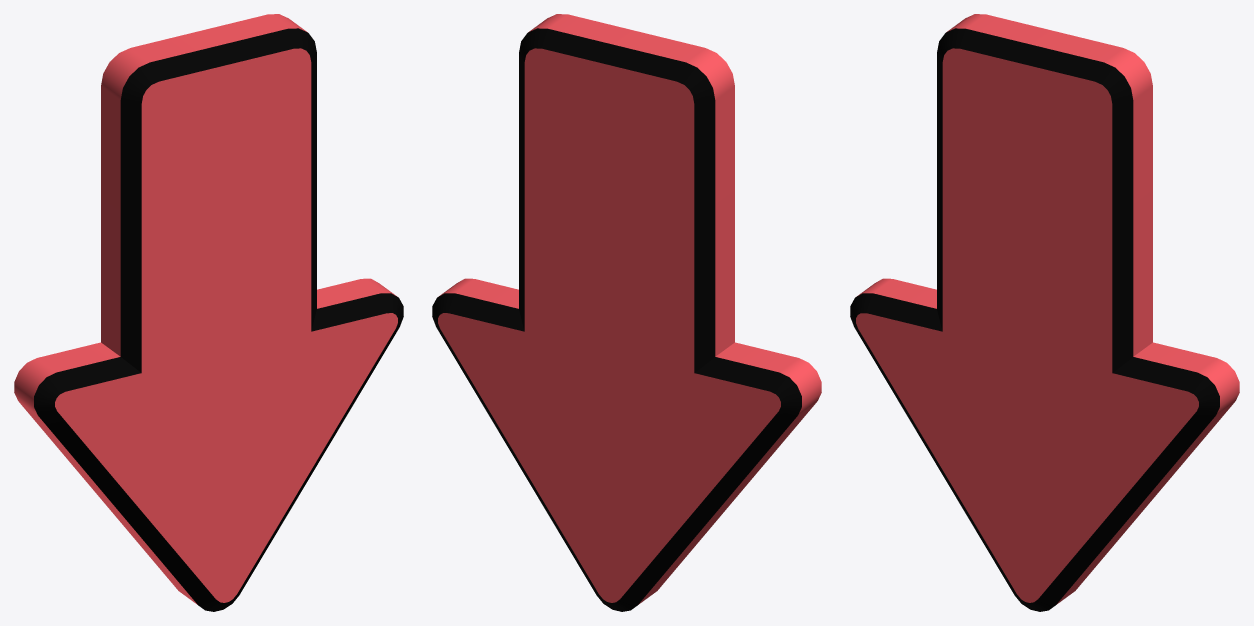
The model's file is Arrow.fbx.
3 views of the same model, side by side, from view 1: azimuth 30°, elevation 25°; view 2: azimuth 150°, elevation 25°; view 3: azimuth 330°, elevation 25° (orthographic).
Parts seen in each view (by area): view 1: Arrow; view 2: Arrow; view 3: Arrow.
Part boxes in pixels (x1=…): Arrow: x1=14, y1=14, x2=403, y2=611; Arrow: x1=432, y1=14, x2=821, y2=611; Arrow: x1=850, y1=14, x2=1239, y2=611.
Size of the model in its own units: 0.4099 by 0.5984 by 0.0673.
1 material, 1 textured.
